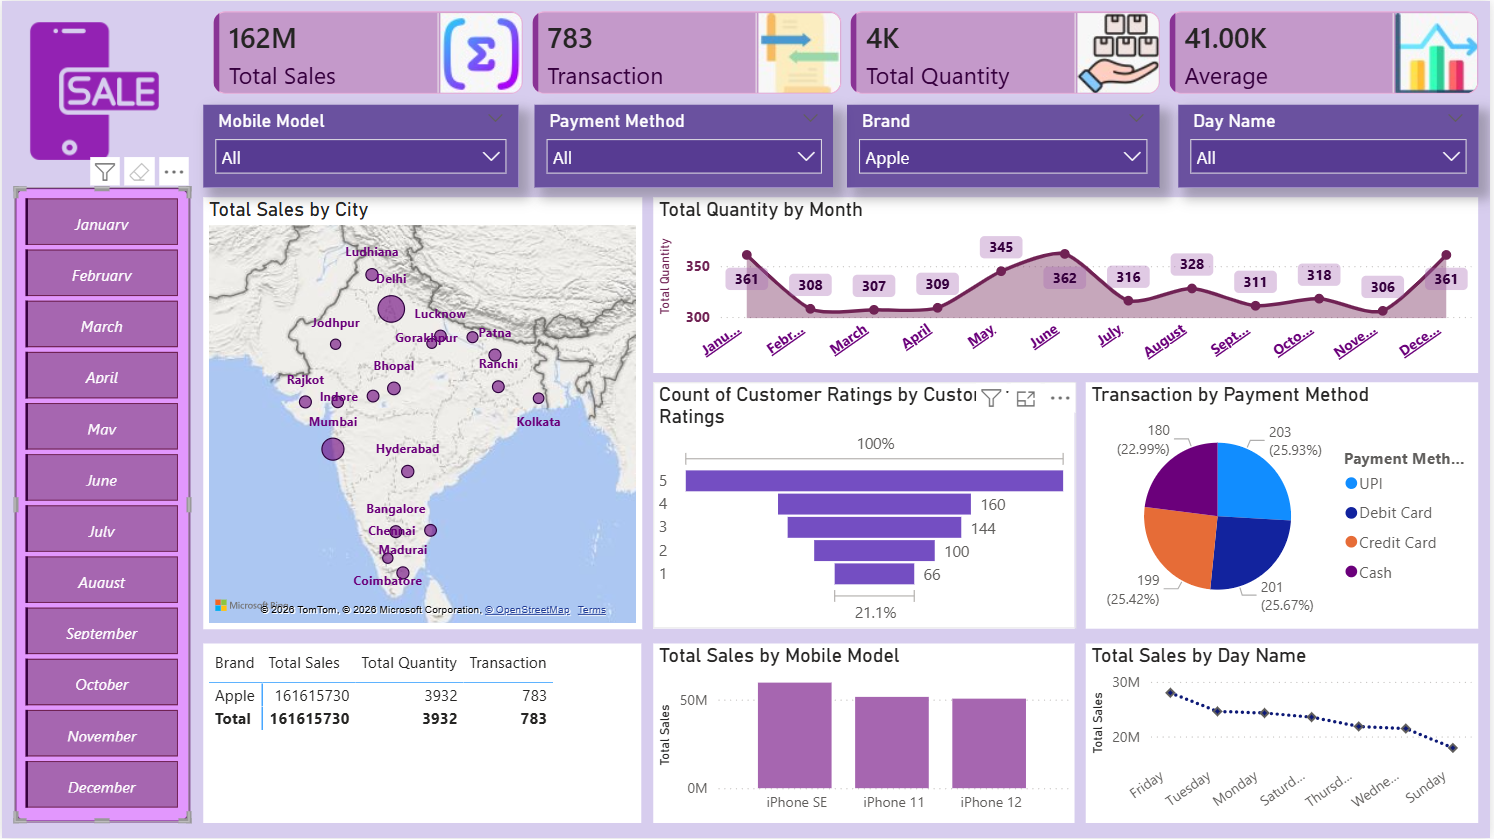

What the dashboard file says about the page in this screenshot:
{"tool":"powerbi","page":{"name":"Project Dashboard","canvas":[1280,720],"ordinal":0},"visuals":[{"type":"image","box":[10.5,18.6,137.2,118.6],"z":0},{"type":"advancedSlicerVisual","title":"MONTH","fields":{"Values":["Sheet1.date.Variation.Date Hierarchy.Month"]},"box":[10.5,160.5,151.2,546.5],"z":1000},{"type":"cardVisual","fields":{"Data":["Mobile_sales_data.Total Sales","Mobile_sales_data.Transaction","Mobile_sales_data.Total Quantity","Mobile_sales_data.Average"]},"box":[173.3,0,1107,89.5],"z":2000},{"type":"map","fields":{"Category":["Mobile_sales_data.City"],"Size":["Mobile_sales_data.Total Sales"]},"box":[173.3,168.6,376.7,370.9],"z":3000},{"type":"lineChart","fields":{"Y":["Mobile_sales_data.Total Quantity"],"Category":["Mobile_sales_data.date.Variation.Date Hierarchy.Month"]},"box":[560.5,168.6,709.3,151.2],"z":4000},{"type":"funnel","fields":{"Category":["Mobile_sales_data.Customer Ratings"],"Y":["CountNonNull(Mobile_sales_data.Customer Ratings)"]},"box":[560.5,327.9,362.8,211.6],"z":5000},{"type":"pieChart","fields":{"Category":["Mobile_sales_data.Payment Method"],"Y":["Mobile_sales_data.Transaction"]},"box":[932.6,327.9,337.2,211.6],"z":6000},{"type":"pivotTable","fields":{"Rows":["Mobile_sales_data.Brand"],"Values":["Mobile_sales_data.Total Sales","Mobile_sales_data.Total Quantity","Mobile_sales_data.Transaction"]},"box":[173.3,552.3,376.7,154.7],"z":7000},{"type":"columnChart","fields":{"Category":["Mobile_sales_data.Mobile Model"],"Y":["Mobile_sales_data.Total Sales"]},"box":[560.5,552.3,362.8,154.7],"z":8000},{"type":"lineChart","fields":{"Category":["Mobile_sales_data.Day Name"],"Y":["Mobile_sales_data.Total Sales"]},"box":[932.6,552.3,337.2,154.7],"z":9000},{"type":"slicer","fields":{"Values":["Mobile_sales_data.Mobile Model"]},"box":[173.3,89.5,270.9,70.9],"z":10000},{"type":"slicer","fields":{"Values":["Mobile_sales_data.Payment Method"]},"box":[458.1,89.5,257,70.9],"z":11000},{"type":"slicer","fields":{"Values":["Mobile_sales_data.Brand"]},"box":[726.7,89.5,268.6,70.9],"z":12000},{"type":"slicer","fields":{"Values":["Mobile_sales_data.Day Name"]},"box":[1011.6,89.5,258.1,70.9],"z":13000}]}

Visuals, with their boxes in screenshot pixels (x1, y1, x2, y2), scaled from the page's 1280x720 canvas onto the 1494x839 screenshot:
image: {"left": 12, "top": 22, "right": 172, "bottom": 160}
"MONTH" advancedSlicerVisual: {"left": 12, "top": 187, "right": 189, "bottom": 824}
cardVisual - Mobile_sales_data.Total Sales x Mobile_sales_data.Transaction: {"left": 202, "top": 0, "right": 1493, "bottom": 104}
map - Mobile_sales_data.City x Mobile_sales_data.Total Sales: {"left": 202, "top": 196, "right": 642, "bottom": 629}
lineChart - Mobile_sales_data.Total Quantity x Mobile_sales_data.date.Variation.Date Hierarchy.Month: {"left": 654, "top": 196, "right": 1482, "bottom": 373}
funnel - Mobile_sales_data.Customer Ratings x CountNonNull(Mobile_sales_data.Customer Ratings): {"left": 654, "top": 382, "right": 1078, "bottom": 629}
pieChart - Mobile_sales_data.Payment Method x Mobile_sales_data.Transaction: {"left": 1089, "top": 382, "right": 1482, "bottom": 629}
pivotTable - Mobile_sales_data.Brand x Mobile_sales_data.Total Sales: {"left": 202, "top": 644, "right": 642, "bottom": 824}
columnChart - Mobile_sales_data.Mobile Model x Mobile_sales_data.Total Sales: {"left": 654, "top": 644, "right": 1078, "bottom": 824}
lineChart - Mobile_sales_data.Day Name x Mobile_sales_data.Total Sales: {"left": 1089, "top": 644, "right": 1482, "bottom": 824}
slicer - Mobile_sales_data.Mobile Model: {"left": 202, "top": 104, "right": 518, "bottom": 187}
slicer - Mobile_sales_data.Payment Method: {"left": 535, "top": 104, "right": 835, "bottom": 187}
slicer - Mobile_sales_data.Brand: {"left": 848, "top": 104, "right": 1162, "bottom": 187}
slicer - Mobile_sales_data.Day Name: {"left": 1181, "top": 104, "right": 1482, "bottom": 187}
